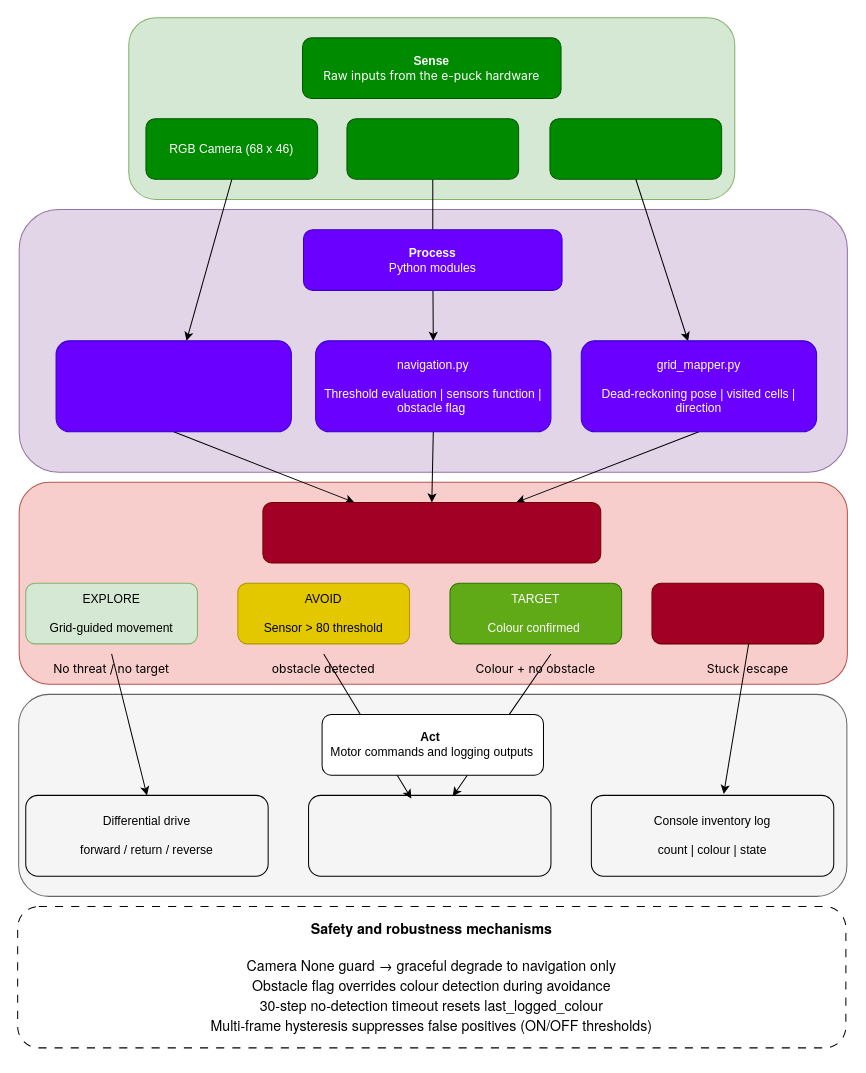
Some shapes in this 866 by 1073 pixel diagram are drawn without their labels. Here are the shapes that lost their labels. From the top down, the centre of each, then its label:
At point (432, 148): "8x Infrared proximity sensors".
At point (635, 148): "Wheel encoders".
At point (173, 386): "perception.py Pixel scan | hysteresis thresholds | colour flag".
At point (431, 532): "Decide wais_controller.py — FSM priority: RECOVERY → AVOID → DETECT → EXPLORE".
At point (737, 613): "RECOVERY Counter > 40 steps".
At point (429, 835): "Advanced motor cmd turn away from threat".
